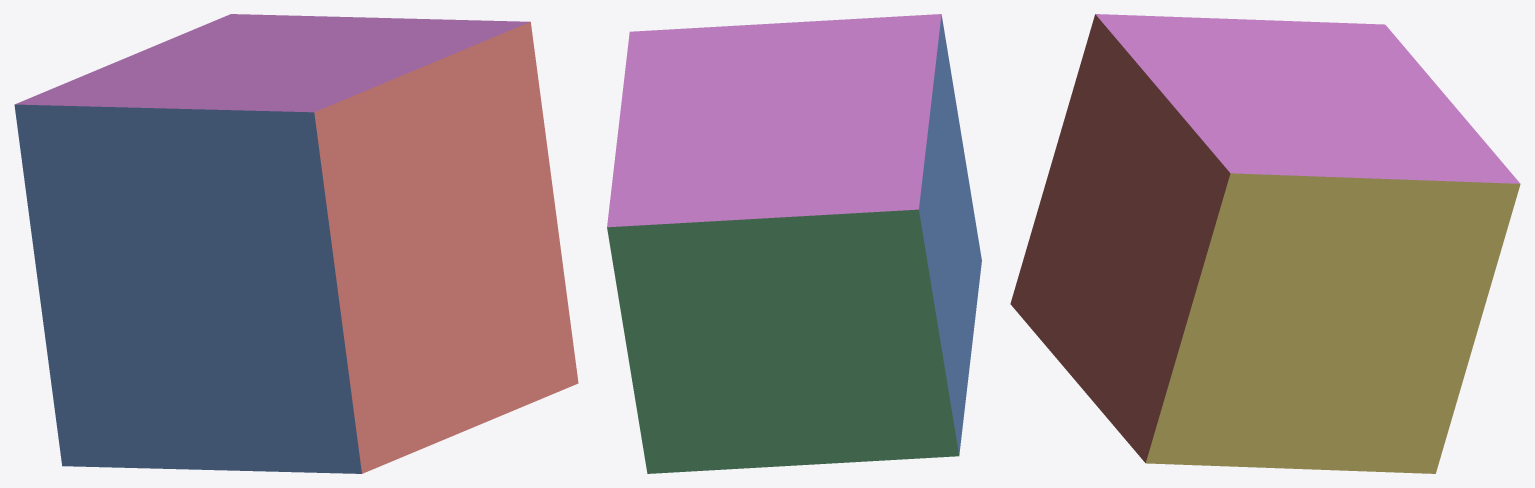
The model's file is morph-cube.gltf.
The picture shows the model from 3 angles, left to right: view 1: azimuth 30°, elevation 25°; view 2: azimuth 150°, elevation 25°; view 3: azimuth 270°, elevation 25°; orthographic projection. The views are drawn at different scales.
Visible parts, largest first — view 1: Morph cube; view 2: Morph cube; view 3: Morph cube.
Boxes of the visible parts, x1,y1,x2,y2 form: Morph cube: [14, 14, 578, 473]; Morph cube: [607, 14, 981, 473]; Morph cube: [1010, 14, 1520, 473].
Bounding box in the file's own units: 2.66 × 2.61 × 3.08.
